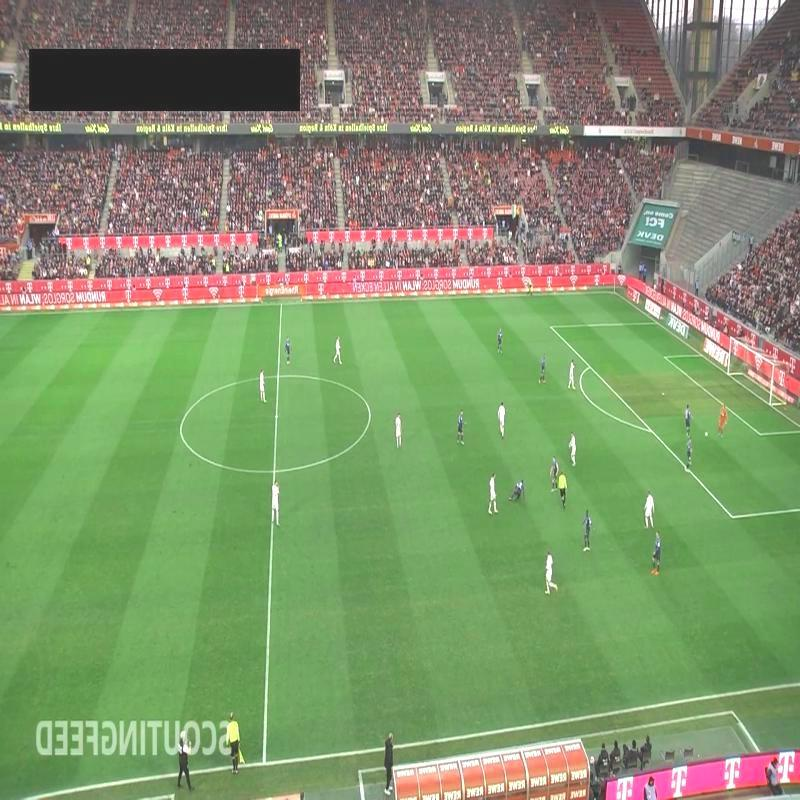1: (606, 285, 620, 299)
10: (582, 360, 596, 374)
11: (644, 423, 658, 438)
12: (726, 510, 740, 524)
13: (274, 296, 288, 310)
14: (270, 368, 286, 384)
15: (266, 462, 282, 480)
16: (254, 752, 274, 772)
2: (650, 316, 664, 330)
3: (695, 349, 709, 362)
7: (658, 350, 672, 364)
8: (753, 427, 767, 442)
9: (544, 319, 558, 333)
c: (363, 407, 377, 422), (174, 419, 188, 434)
